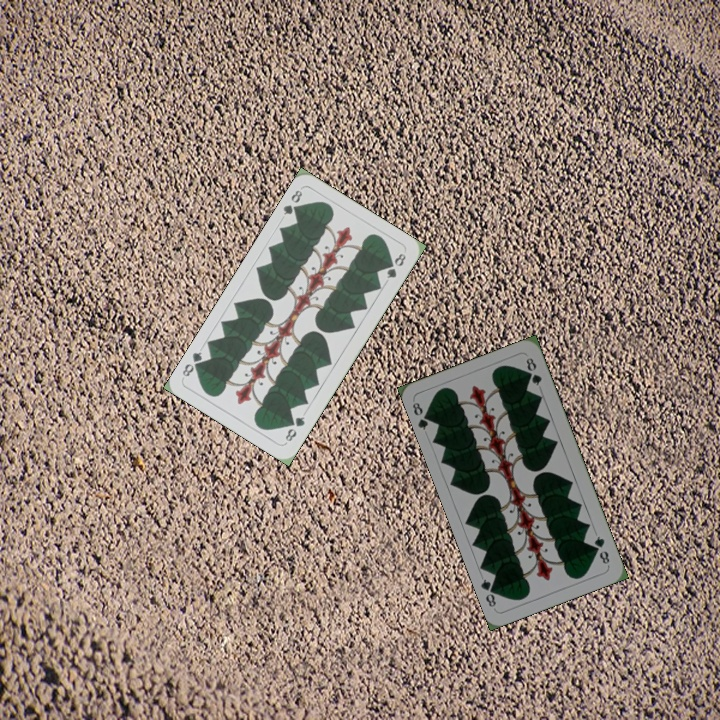G8: (408, 398, 434, 433), (281, 413, 308, 445), (279, 186, 305, 218), (590, 532, 612, 567)
